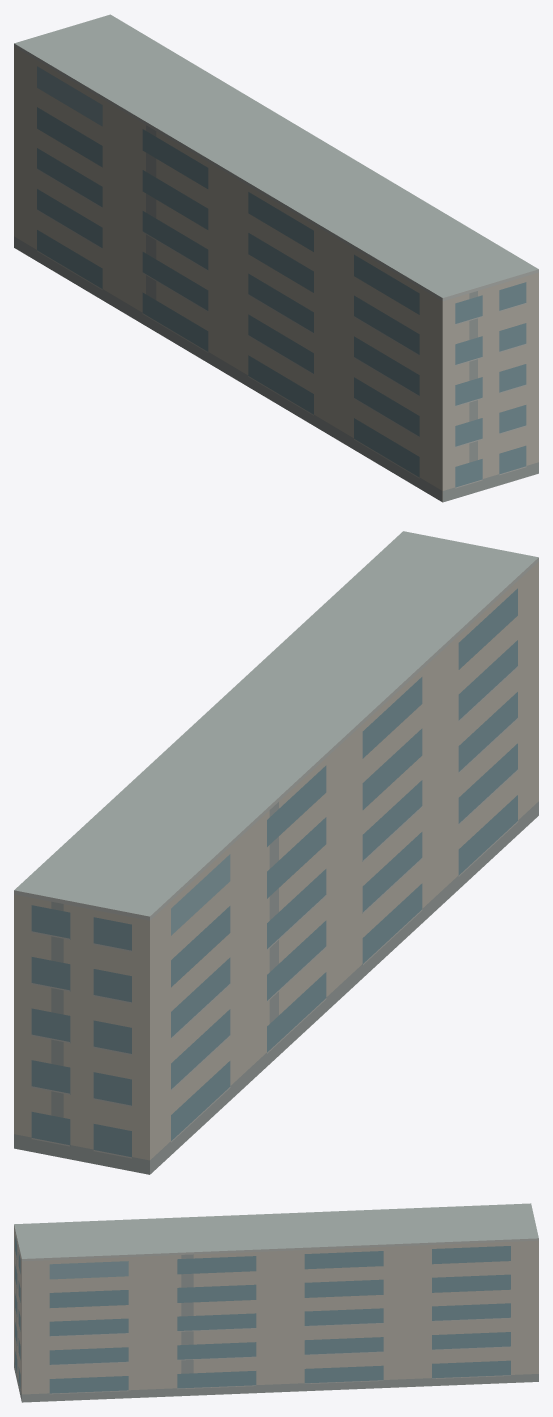
File: residential-ed944b50-dd4b-4d7c-a243-7c6abce522c3.glb
The picture shows the model from 3 angles, top to bottom: view 1: azimuth 30°, elevation 25°; view 2: azimuth 150°, elevation 25°; view 3: azimuth 270°, elevation 25°; orthographic projection. The views are drawn at different scales.
Visible parts, largest first — view 1: residential-ed944b50-dd4b-4d7c-a243-7c6abce522c3.tmp; view 2: residential-ed944b50-dd4b-4d7c-a243-7c6abce522c3.tmp; view 3: residential-ed944b50-dd4b-4d7c-a243-7c6abce522c3.tmp.
Part boxes in pixels (x1,y1,x2,y2): residential-ed944b50-dd4b-4d7c-a243-7c6abce522c3.tmp: (14,14,538,502); residential-ed944b50-dd4b-4d7c-a243-7c6abce522c3.tmp: (14,531,538,1174); residential-ed944b50-dd4b-4d7c-a243-7c6abce522c3.tmp: (14,1203,538,1402).
Size of the model in its own units: 12.68 by 15.25 by 50.57.
